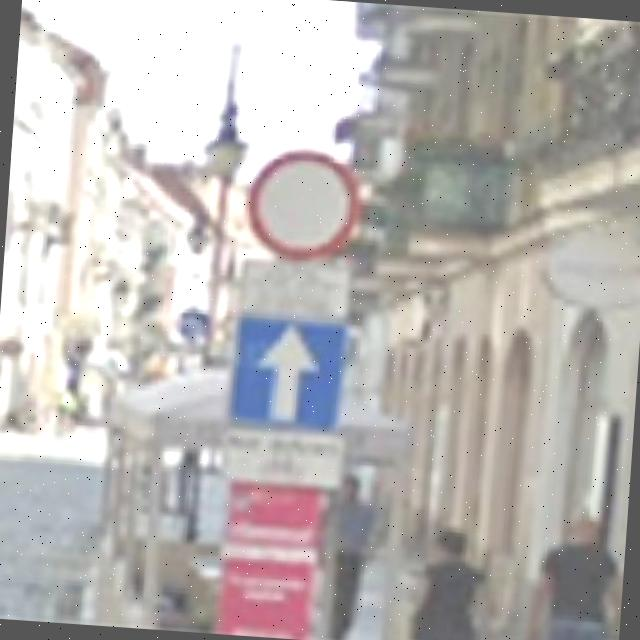Zakaz ruchu w obu kierunkach: (242, 140, 364, 266)
